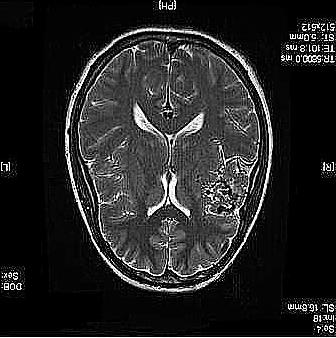Normal_Brain: (1, 1, 336, 337)
